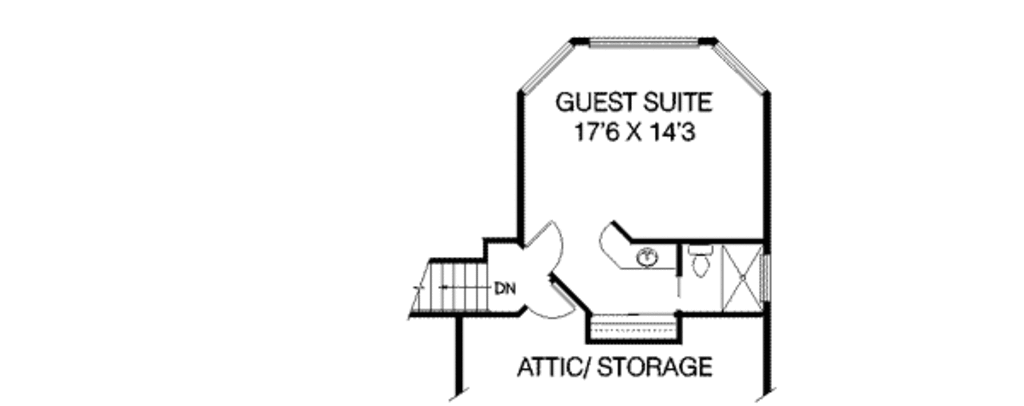door: (526, 274, 577, 323), (530, 217, 564, 272)
large_sink: (687, 243, 719, 280)
small_sink: (636, 244, 660, 273)
stairs: (401, 253, 489, 328)
window: (714, 36, 775, 95), (518, 38, 572, 96), (586, 33, 703, 49)
